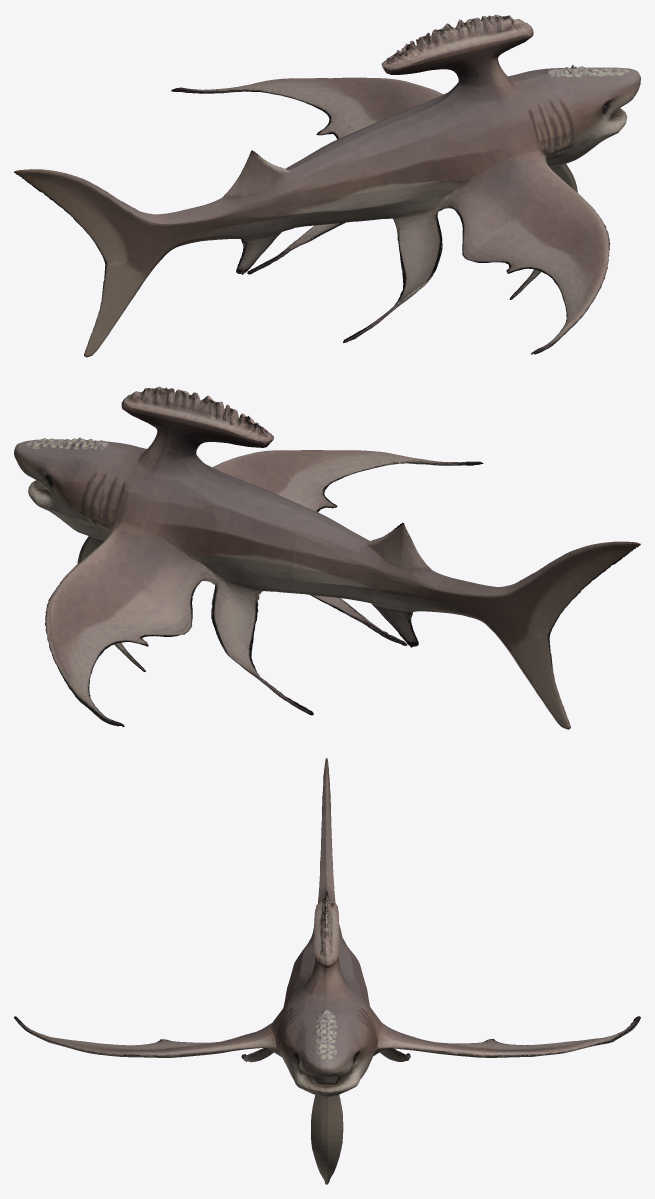
3 renders of one model, top to bottom at view 1: azimuth 30°, elevation 25°; view 2: azimuth 150°, elevation 25°; view 3: azimuth 270°, elevation 25°, orthographic. The views are drawn at different scales.
Visible parts, largest first — view 1: world; view 2: world; view 3: world.
Part boxes in pixels (bbox=[...]): world: bbox=[14, 14, 640, 357]; world: bbox=[14, 386, 640, 729]; world: bbox=[14, 758, 640, 1184].
Size of the model in its own units: 0.9987 by 0.4458 by 1.
1 material, 1 textured.
